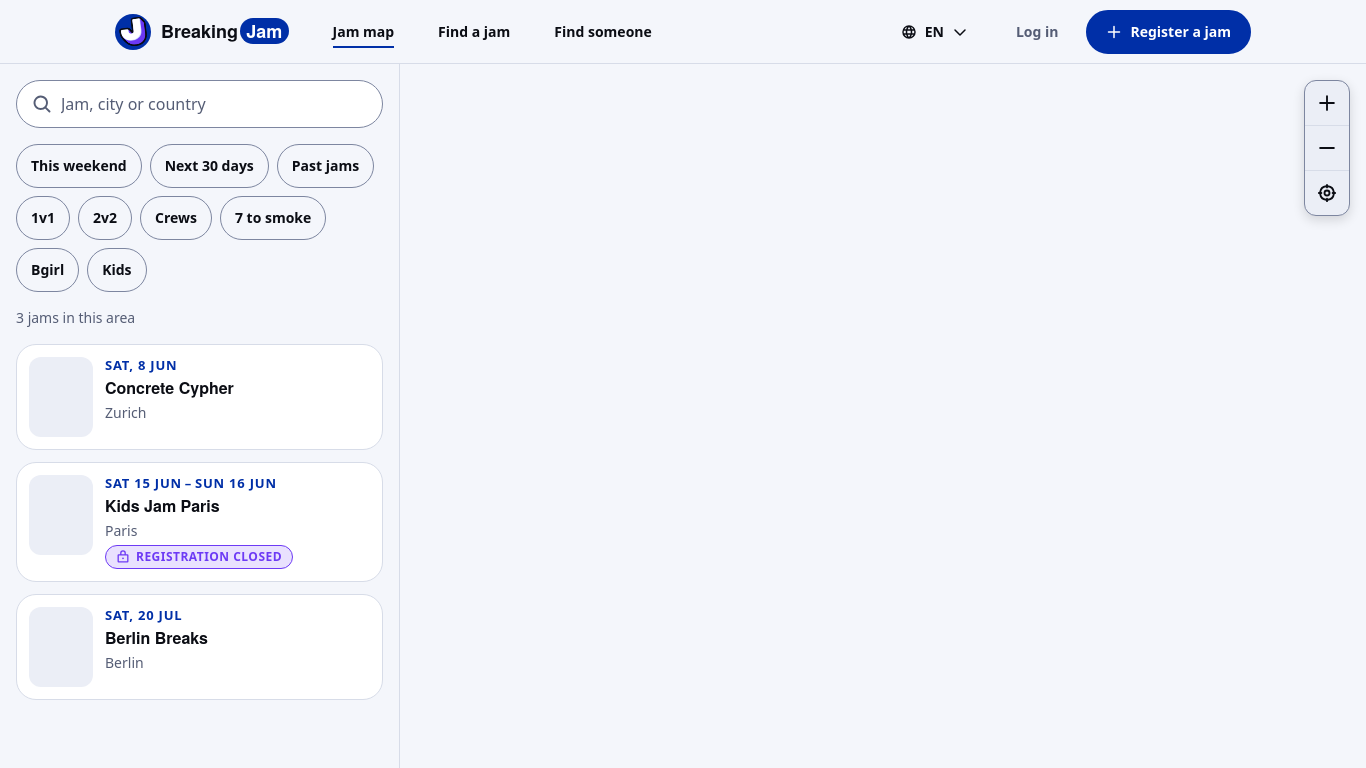
it: MapPage › opens a jam's popup from its row; Esc closes it and focus goes back
This screenshot has width=1366, height=768.
Check: the text "3 jams in this area" is shown, box [16,308,135,327]
Click the button "Concrete Cypher". click: (169, 388)
box: [105,377,234,399]
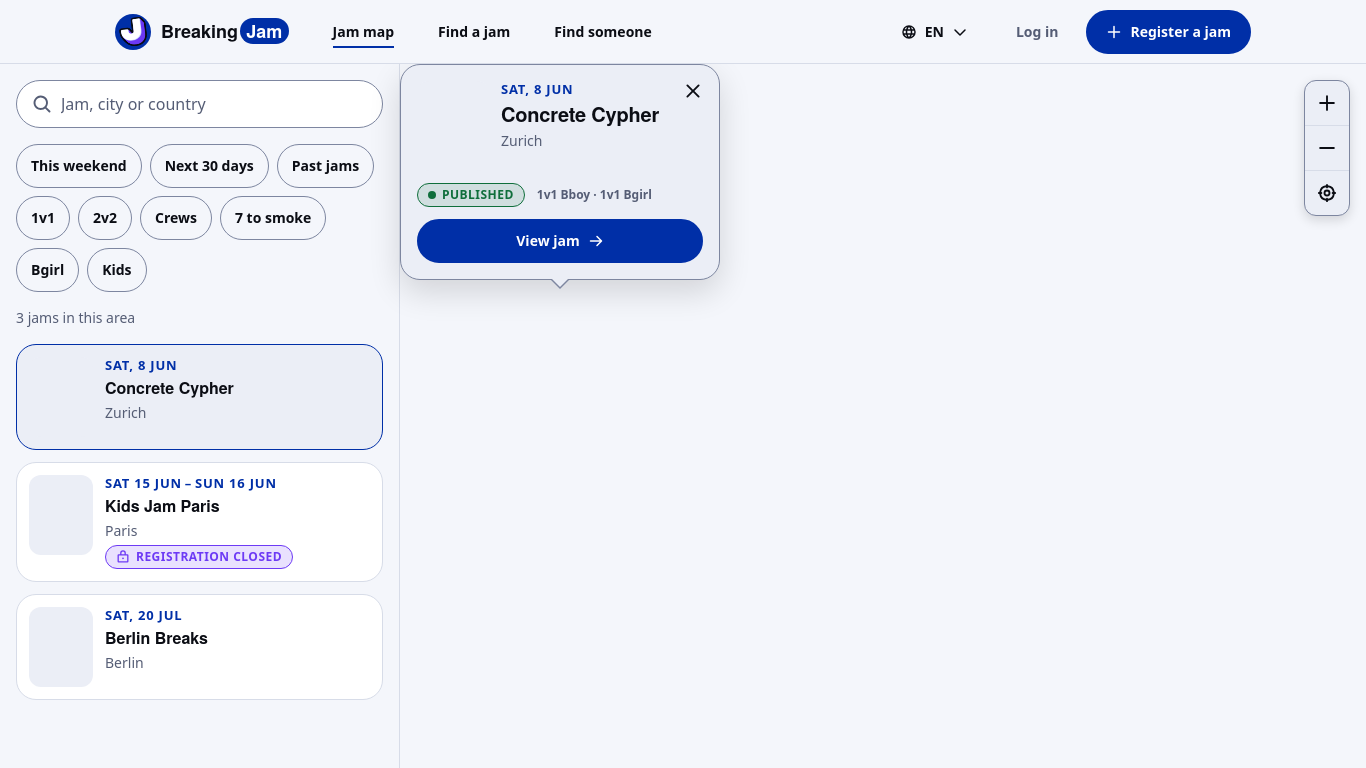
Check: the text "1v1 Bboy · 1v1 Bgirl" is shown, box [537,187,652,203]
Check: the text "Published" is shown, box [417,183,525,207]
Press Escape
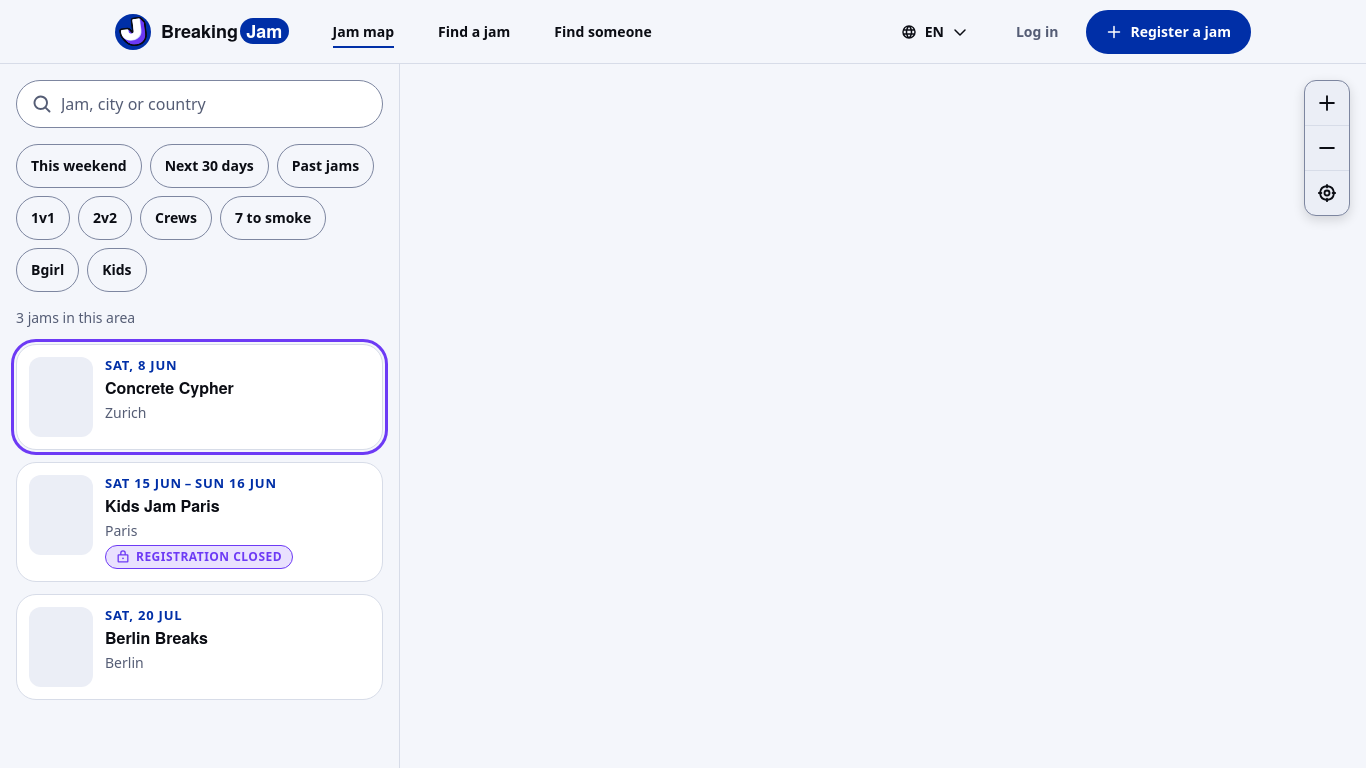
Check: the dialog is gone
